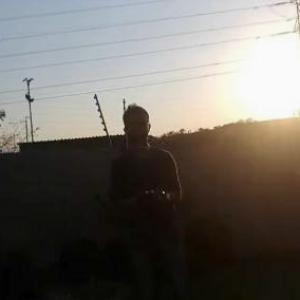follow: (108, 99, 187, 299)
